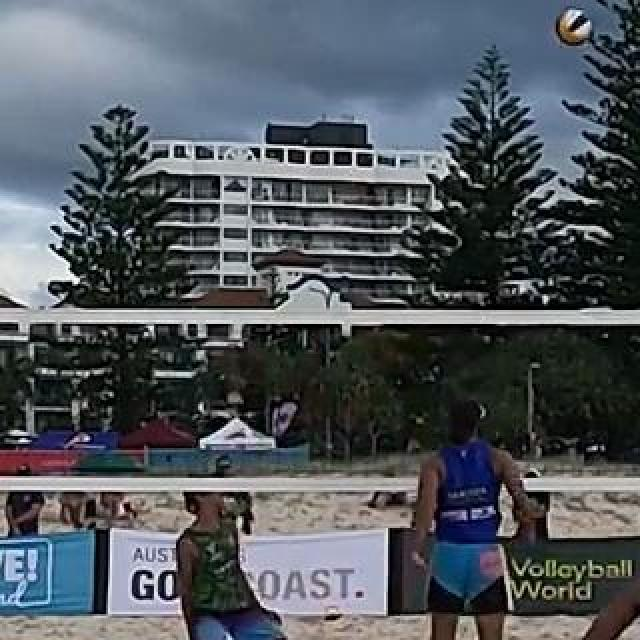volleyball: (557, 10, 595, 46), (322, 603, 344, 625)
